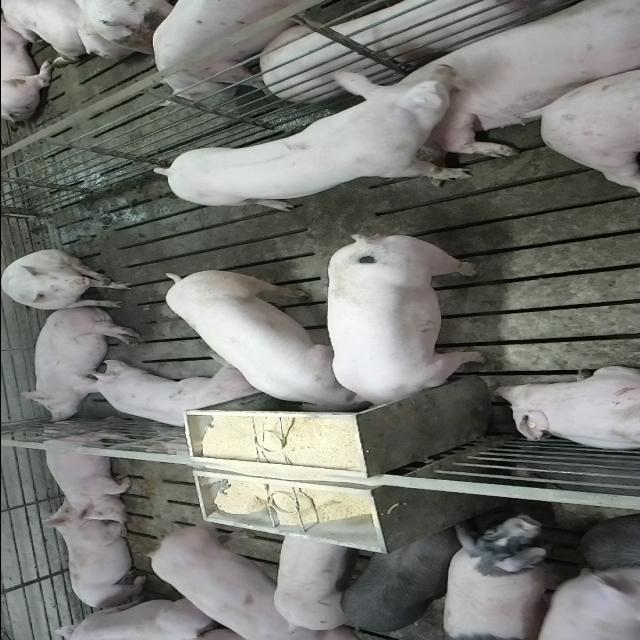Feeding: (161, 264, 365, 412), (323, 229, 485, 409)
Lateral_lying: (15, 306, 142, 426)
Sitting: (1, 250, 134, 312)
Standing: (156, 65, 487, 212), (143, 522, 311, 638), (154, 0, 348, 99), (334, 523, 465, 637), (439, 516, 552, 638), (525, 564, 638, 638), (270, 531, 352, 632)
Sternal_lying: (368, 0, 634, 149), (490, 366, 640, 454), (70, 364, 259, 433), (41, 509, 149, 612), (34, 424, 134, 522)
